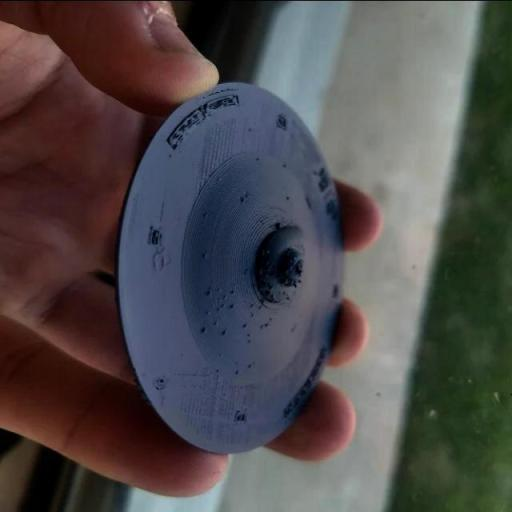blobs: (200, 322, 208, 335), (241, 319, 251, 329), (262, 288, 272, 298), (273, 220, 284, 229), (263, 319, 271, 330), (221, 326, 229, 336), (201, 250, 209, 260), (229, 286, 236, 297), (205, 288, 213, 297), (202, 208, 209, 218), (229, 300, 235, 311), (213, 318, 220, 327), (234, 367, 241, 375), (257, 303, 264, 311), (239, 195, 247, 201), (246, 329, 252, 337), (246, 362, 253, 368)
